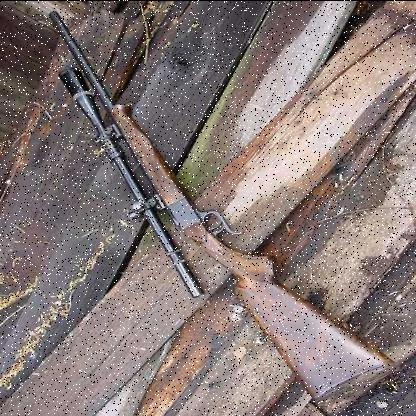rifle: (31, 6, 415, 416)
